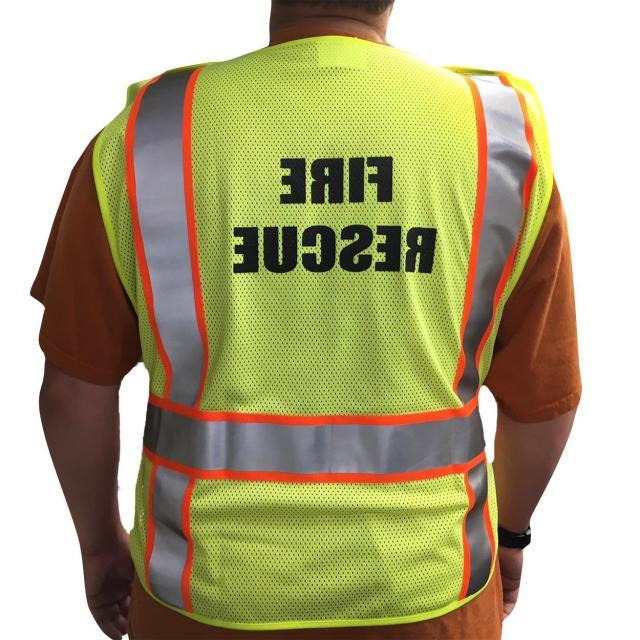reflective_jacket: (78, 17, 549, 639)
